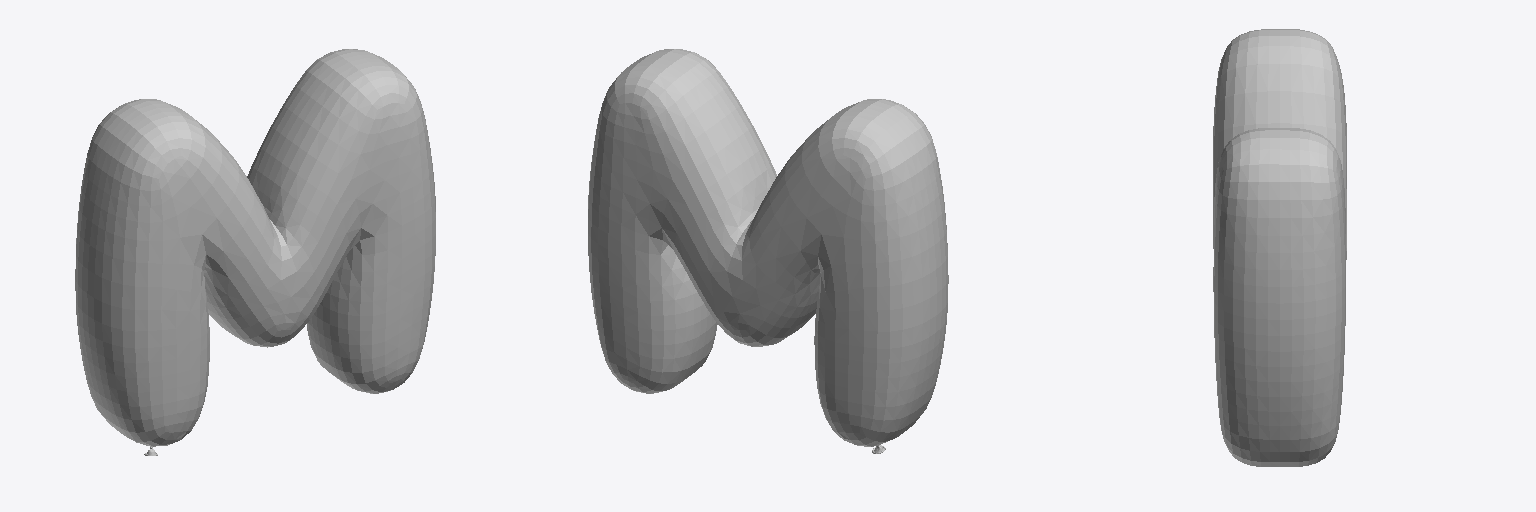
The model's file is balloonm.obj.
The picture shows the model from 3 angles: view 1: azimuth 30°, elevation 25°; view 2: azimuth 150°, elevation 25°; view 3: azimuth 270°, elevation 25°; orthographic projection.
Parts seen in each view (by area): view 1: Balloon_Alphabet_Subdivision_M_Alphabet_M; view 2: Balloon_Alphabet_Subdivision_M_Alphabet_M; view 3: Balloon_Alphabet_Subdivision_M_Alphabet_M.
Boxes of the visible parts, x1,y1,x2,y2 form: Balloon_Alphabet_Subdivision_M_Alphabet_M: [75, 49, 435, 455]; Balloon_Alphabet_Subdivision_M_Alphabet_M: [588, 49, 948, 453]; Balloon_Alphabet_Subdivision_M_Alphabet_M: [1213, 29, 1346, 466].
Bounding box in the file's own units: 51.56 × 50.29 × 17.85.